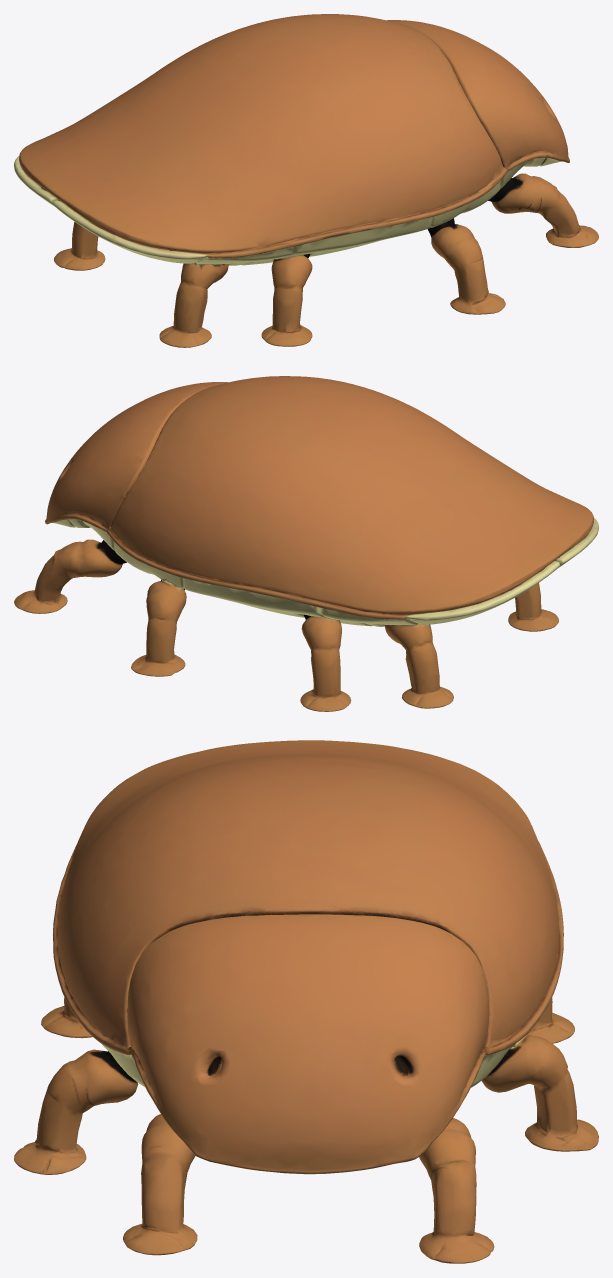
The picture shows the model from 3 angles, top to bottom: view 1: azimuth 30°, elevation 25°; view 2: azimuth 150°, elevation 25°; view 3: azimuth 270°, elevation 25°; orthographic projection. The views are drawn at different scales.
Visible parts, largest first — view 1: tripo_node_118d9422-ffa9-436d-8a27-b220f908afb4; view 2: tripo_node_118d9422-ffa9-436d-8a27-b220f908afb4; view 3: tripo_node_118d9422-ffa9-436d-8a27-b220f908afb4.
Boxes of the visible parts, x1,y1,x2,y2 form: tripo_node_118d9422-ffa9-436d-8a27-b220f908afb4: (14,14,598,347); tripo_node_118d9422-ffa9-436d-8a27-b220f908afb4: (14,376,598,711); tripo_node_118d9422-ffa9-436d-8a27-b220f908afb4: (14,740,598,1263).
Bounding box in the file's own units: 1 × 0.4197 × 0.7159.
Materials: 1 (1 with a texture image).
